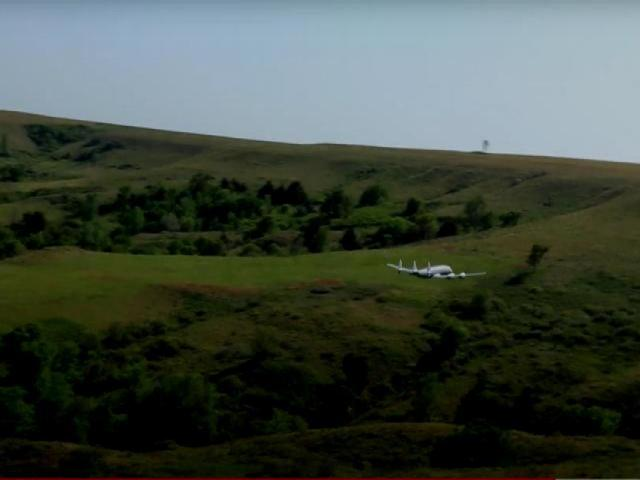iha: (392, 254, 486, 283)
